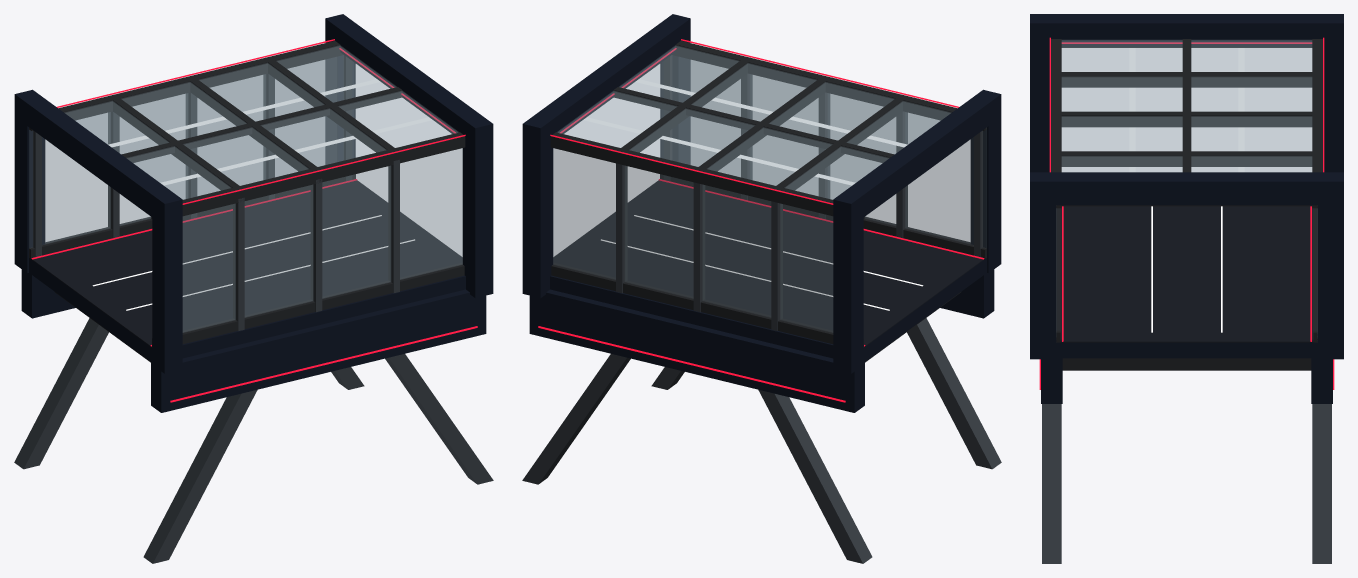
File: hq_bridge.gltf
3 renders of one model, left to right at view 1: azimuth 30°, elevation 25°; view 2: azimuth 150°, elevation 25°; view 3: azimuth 270°, elevation 25°, orthographic. The views are drawn at different scales.
Visible parts, largest first — view 1: skyglass, hull, stone, graphite, fin, crimson, white; view 2: skyglass, hull, stone, graphite, fin, crimson, white; view 3: hull, stone, skyglass, graphite, fin, crimson, white.
Part boxes in pixels (x1,y1,x2,y2): skyglass: (29, 45, 462, 332); hull: (14, 14, 493, 412); stone: (31, 180, 462, 347); graphite: (29, 41, 465, 362); fin: (14, 55, 493, 563); crimson: (31, 39, 477, 402); white: (92, 79, 432, 310); skyglass: (553, 45, 986, 332); hull: (522, 14, 1001, 412); stone: (553, 180, 985, 347); graphite: (550, 41, 986, 362); fin: (522, 55, 1001, 563); crimson: (538, 39, 984, 402); white: (583, 79, 923, 310); hull: (1030, 14, 1343, 403); stone: (1060, 206, 1314, 342); skyglass: (1056, 40, 1317, 336); graphite: (1051, 39, 1322, 370); fin: (1042, 208, 1331, 563); crimson: (1039, 37, 1334, 389); white: (1129, 48, 1244, 332).
Size of the model in its own units: 18.9 by 19.2 by 14.4.
